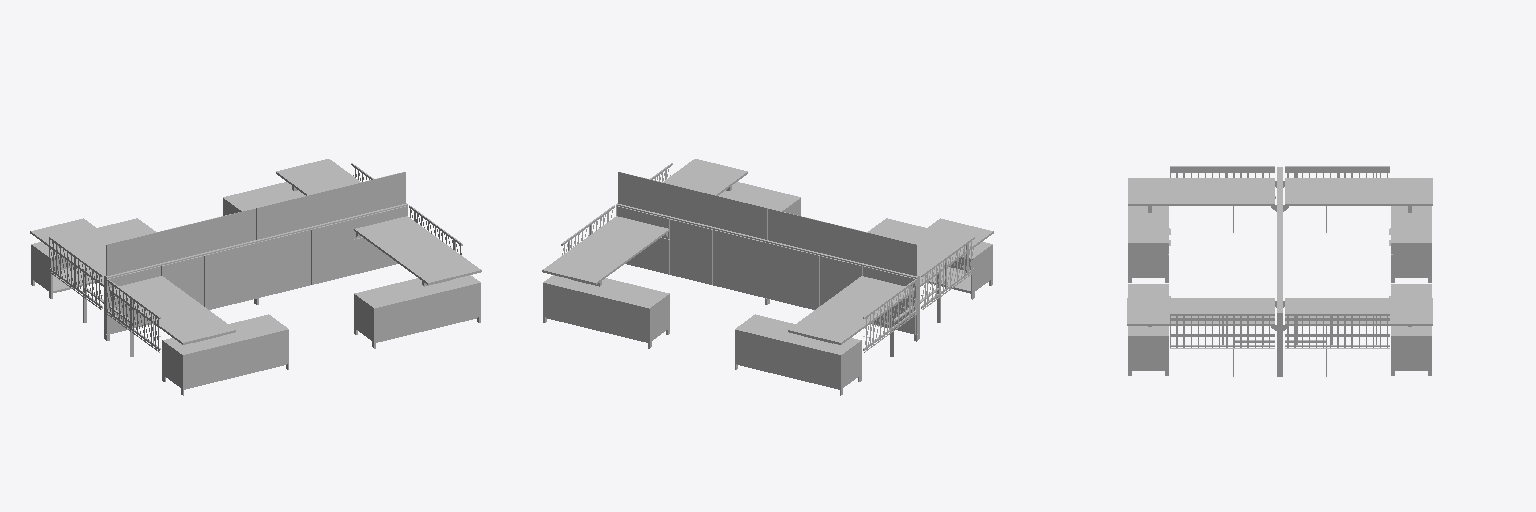
File: QuadDesk.obj
3 views of the same model, side by side, from view 1: azimuth 30°, elevation 25°; view 2: azimuth 150°, elevation 25°; view 3: azimuth 270°, elevation 25° (orthographic).
Visible parts, largest first — view 1: QuadDesk.obj; view 2: QuadDesk.obj; view 3: QuadDesk.obj.
Part boxes in pixels (x1,y1,x2,y2): QuadDesk.obj: (30,159,481,395); QuadDesk.obj: (542,159,993,395); QuadDesk.obj: (1127,166,1432,376).
Bounding box in the file's own units: 4.31 × 1.3 × 3.76.